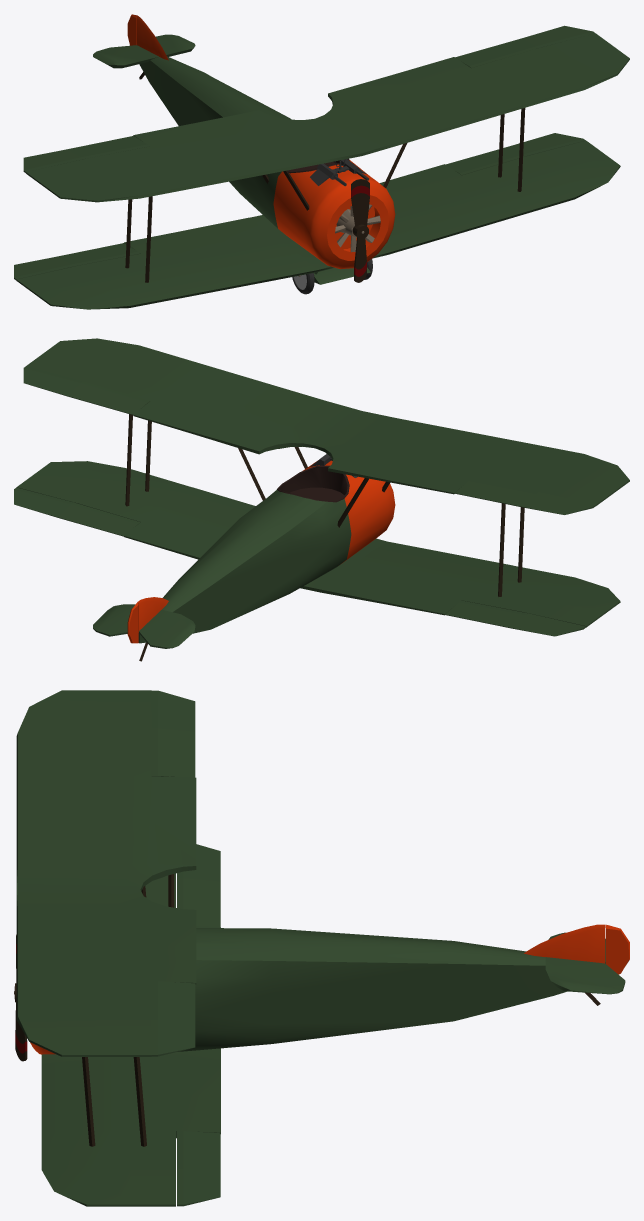
Rendered from Sopwith Camel.fbx.
The picture shows the model from 3 angles, top to bottom: view 1: azimuth 30°, elevation 25°; view 2: azimuth 150°, elevation 25°; view 3: azimuth 270°, elevation 25°; orthographic projection. The views are drawn at different scales.
Parts seen in each view (by area): view 1: Plane Body, Aerilion.003, Aerilion, Aerilion.002, Aerilion.001, Prop; view 2: Plane Body, Aerilion.003, Aerilion, Aerilion.002, Aerilion.001; view 3: Plane Body, Aerilion.002, Aerilion.003, Aerilion, Aerilion.001, Rudder.
Part boxes in pixels (bbox=[...]): Plane Body: bbox=[16, 16, 629, 309]; Aerilion.003: bbox=[455, 25, 594, 67]; Aerilion: bbox=[446, 133, 585, 175]; Aerilion.002: bbox=[23, 136, 149, 172]; Aerilion.001: bbox=[14, 243, 140, 280]; Prop: bbox=[351, 179, 369, 282]; Plane Body: bbox=[16, 338, 629, 661]; Aerilion.003: bbox=[23, 366, 149, 414]; Aerilion: bbox=[14, 487, 140, 536]; Aerilion.002: bbox=[454, 479, 595, 514]; Aerilion.001: bbox=[445, 600, 585, 636]; Plane Body: bbox=[16, 690, 625, 1206]; Aerilion.002: bbox=[151, 690, 195, 777]; Aerilion.003: bbox=[151, 981, 195, 1056]; Aerilion: bbox=[177, 1131, 220, 1206]; Aerilion.001: bbox=[177, 844, 220, 927]; Rudder: bbox=[606, 924, 629, 974].
Bounding box in the file's own units: 1339 × 376 × 956.
